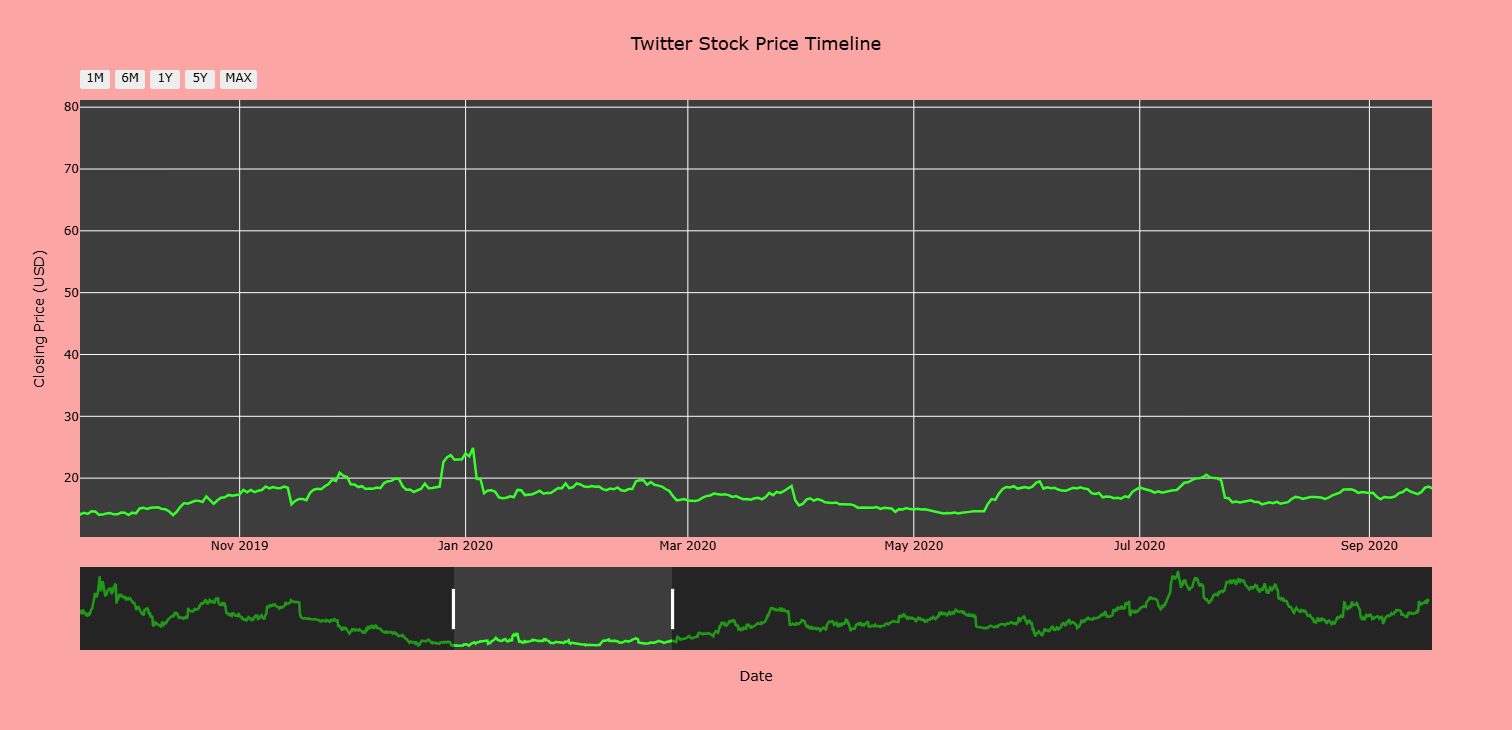

The dashboard page shown, as its layout file describes it:
{"tool":"powerbi","page":{"name":"Page 1","canvas":[1280,720],"ordinal":0},"visuals":[{"type":"pythonVisual","fields":{"Values":["TWTR.Date","TWTR.Close"]},"box":[10,0,1268.9,719],"z":0}]}

Visuals, with their boxes on the page's 1280x720 design canvas (x1, y1, x2, y2). These are canvas units, not pixel positions in the 1512x730 screenshot, which may show the page scaled, cropped or inside an application window:
pythonVisual - TWTR.Date x TWTR.Close: box=[10, 0, 1279, 719]
